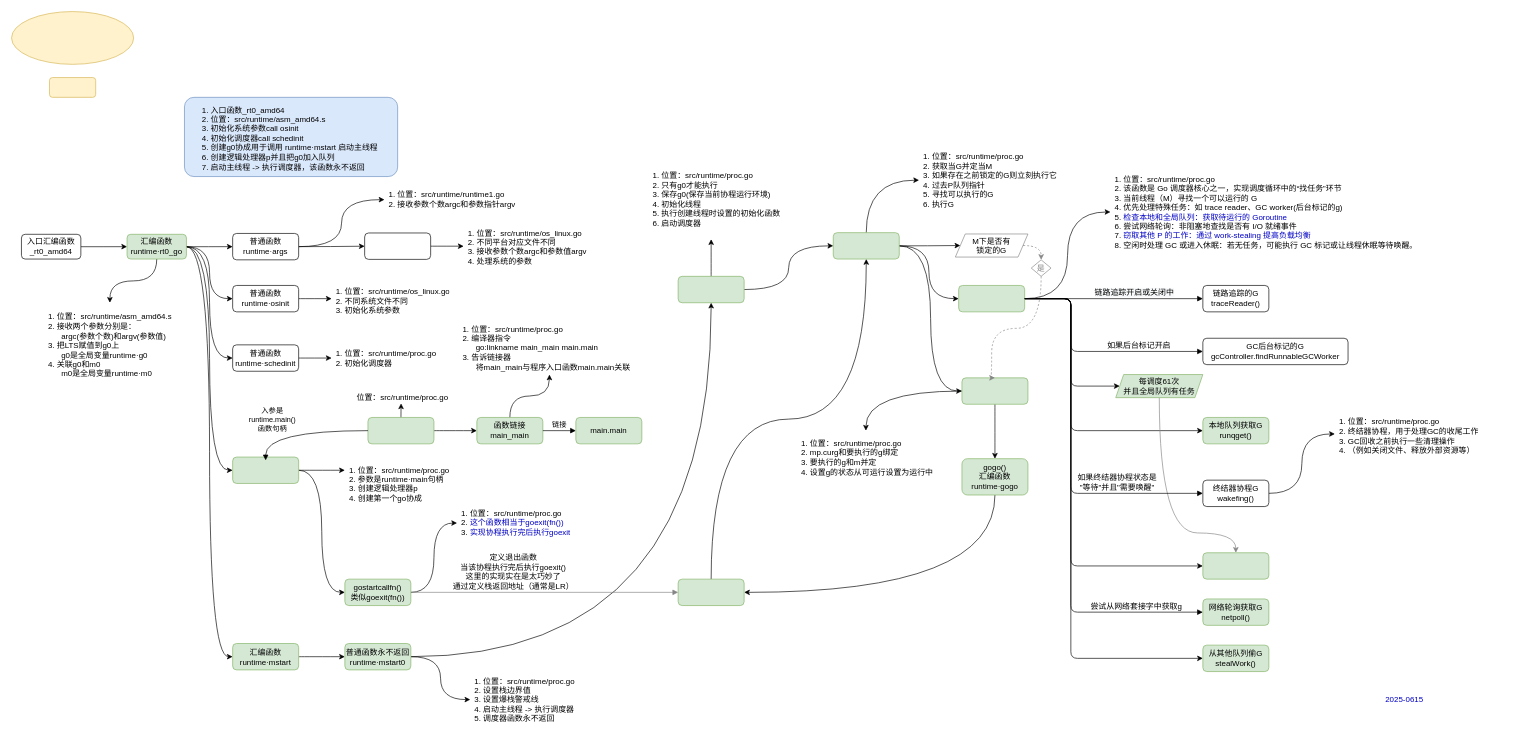
This 1531x750 diagram has some shape labels left out. Each missing label, with the centre of its shape:
"go1.23.5" goes at point 72,87.
"goexit()" goes at point 710,592.
"Go启动和调度流程" goes at point 72,37.
"sysargs()" goes at point 397,245.
"主线程 mstart1()" goes at point 710,289.
"全局队列获取G globrunqget()" goes at point 1235,565.
"函数句柄 runtime·main" goes at point 400,430.
"寻找可执行的G findRunnable()" goes at point 991,298.
"执行G execute()" goes at point 994,390.
"普通函数 runtime·newproc" goes at point 265,469.
"调度器 schedule()" goes at point 866,245.
